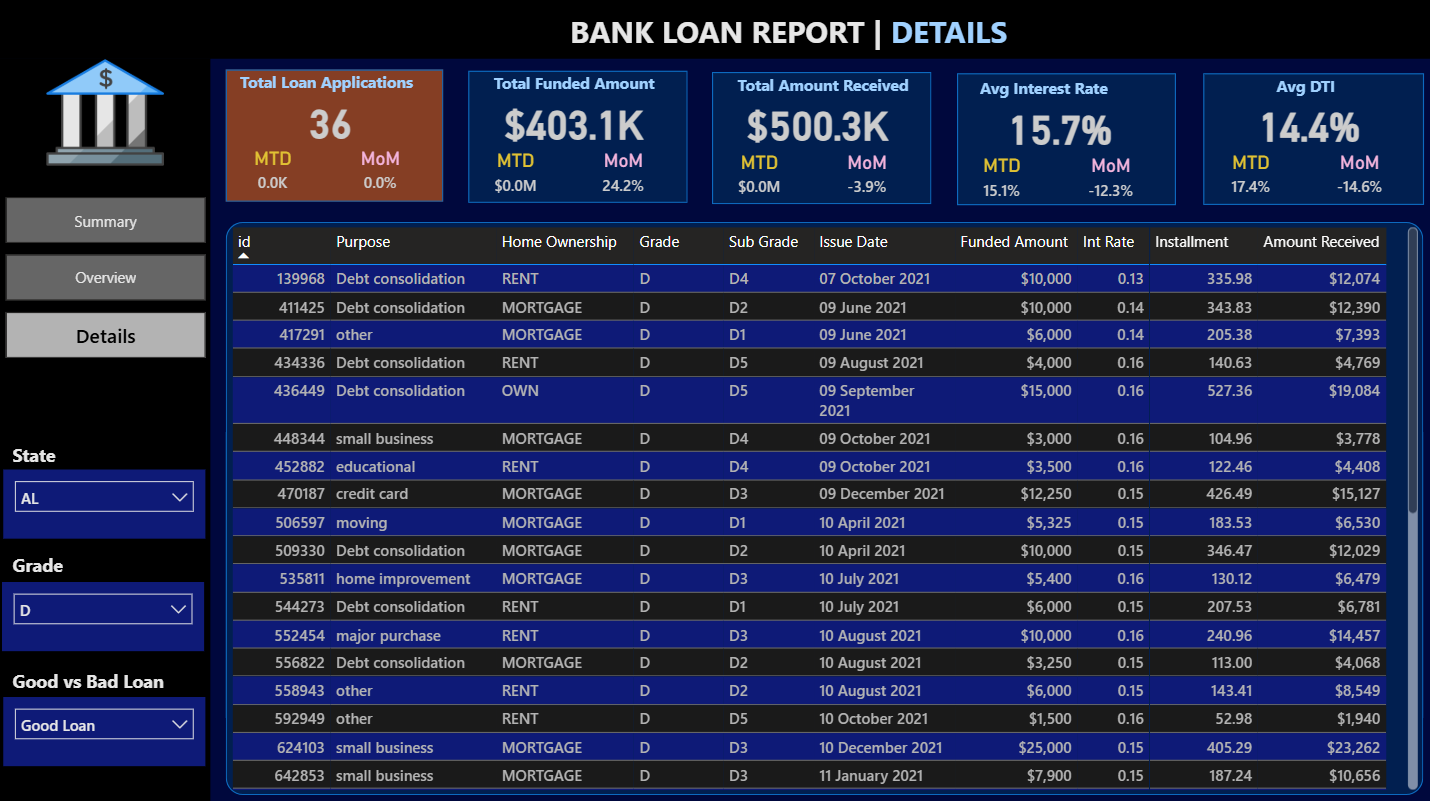

The dashboard page shown, as its layout file describes it:
{"tool":"powerbi","page":{"name":"Details","canvas":[1280,720],"ordinal":2},"visuals":[{"type":"shape","box":[0,0,1280,55],"z":0},{"type":"shape","box":[203.8,64.6,193.8,117.8],"z":0,"group":"g1"},{"type":"shape","box":[419.5,66.3,195.4,117.7],"z":0,"group":"g2"},{"type":"shape","box":[636.6,67.7,195.4,117.7],"z":0,"group":"g3"},{"type":"shape","box":[854.5,68.5,195,117.5],"z":0,"group":"g4"},{"type":"shape","box":[1073.8,68.8,196.6,117.3],"z":0,"group":"g5"},{"type":"card","fields":{"Values":["bank_loan_data.Total Loan Applications"]},"box":[227.1,80,140.2,60.1],"z":1000,"group":"g1"},{"type":"card","fields":{"Values":["bank_loan_data.Total Funded Amount"]},"box":[443,81.7,141.4,60],"z":1000,"group":"g2"},{"type":"card","fields":{"Values":["bank_loan_data.Total Amount Received"]},"box":[660.1,83.1,141.4,60],"z":1000,"group":"g3"},{"type":"card","fields":{"Values":["bank_loan_data.Avg DTI"]},"box":[1097.4,84.1,142.3,59.8],"z":1000,"group":"g5"},{"type":"card","fields":{"Values":["bank_loan_data.Average Interest Rate"]},"box":[876.2,86,141.4,60],"z":1000,"group":"g4"},{"type":"shape","box":[203.9,200.3,1066.5,510.3],"z":1000},{"type":"shape","box":[0,55,190,665],"z":2000},{"type":"textbox","box":[211.5,61.2,172.3,35],"z":2000,"group":"g1"},{"type":"textbox","box":[437.4,62.5,173.8,35.4],"z":2000,"group":"g2"},{"type":"textbox","box":[654.5,63.9,173.8,35.4],"z":2000,"group":"g3"},{"type":"textbox","box":[1091.8,65,175,35.3],"z":2000,"group":"g5"},{"type":"textbox","box":[870.6,66.8,173.8,35.4],"z":2000,"group":"g4"},{"type":"textbox","box":[505,7.5,442.5,47.5],"z":3000},{"type":"card","title":"MTD","fields":{"Values":["bank_loan_data.MTD Loan Applications"]},"box":[211.5,133.8,68.2,45],"z":3000,"group":"g1"},{"type":"card","title":"MTD","fields":{"Values":["bank_loan_data.MTD Funded Amount"]},"box":[427.3,135.4,68.8,45],"z":3000,"group":"g2"},{"type":"card","title":"MTD","fields":{"Values":["bank_loan_data.MTD Total Amount Recieved"]},"box":[644.4,136.8,68.8,45],"z":3000,"group":"g3"},{"type":"card","title":"MTD","fields":{"Values":["bank_loan_data.MTD Avg DTI"]},"box":[1081.6,137.7,69.2,44.8],"z":3000,"group":"g5"},{"type":"card","title":"MTD","fields":{"Values":["bank_loan_data.MTD Avg Int Rate"]},"box":[860.5,139.7,68.8,45],"z":3000,"group":"g4"},{"type":"group","id":"g1","title":"Group 1","box":[203.8,61.2,193.8,121.2],"z":4000},{"type":"card","title":"MoM","fields":{"Values":["bank_loan_data.MOM Loan Application"]},"box":[309.1,133.9,64.1,44.7],"z":4000,"group":"g1"},{"type":"card","title":"MoM","fields":{"Values":["bank_loan_data.MOM Funded Amount"]},"box":[525.7,135.5,64.6,44.6],"z":4000,"group":"g2"},{"type":"card","title":"MoM","fields":{"Values":["bank_loan_data.MOM Total Amount Recieved"]},"box":[742.8,136.9,64.6,44.6],"z":4000,"group":"g3"},{"type":"card","title":"MoM","fields":{"Values":["bank_loan_data.MoM Avg DTI"]},"box":[1180.7,137.8,65,44.5],"z":4000,"group":"g5"},{"type":"card","title":"MoM","fields":{"Values":["bank_loan_data.MoM Avg Int Rate"]},"box":[958.9,139.8,64.6,44.6],"z":4000,"group":"g4"},{"type":"group","id":"g2","title":"Group 1","box":[419.5,62.5,195,121.7],"z":5000},{"type":"group","id":"g3","title":"Group 1","box":[636.6,63.9,195.8,121.7],"z":6000},{"type":"group","id":"g4","title":"Group 1","box":[854.5,66.8,195,119.2],"z":7000},{"type":"group","id":"g5","title":"Group 1","box":[1073.8,65,196.2,121.2],"z":8000},{"type":"textbox","box":[35,447.5,231.2,35],"z":9000},{"type":"slicer","fields":{"Values":["bank_loan_data.address_state"]},"box":[6,421,179.8,61.5],"z":10000},{"type":"textbox","box":[8.4,392.1,160.5,43.4],"z":11000},{"type":"slicer","fields":{"Values":["bank_loan_data.grade"]},"box":[4.8,521.2,179.8,61.5],"z":12000},{"type":"slicer","fields":{"Values":["bank_loan_data.Good vs Bad Loan"]},"box":[6,623.7,179.8,61.5],"z":13000},{"type":"textbox","box":[8.8,593.8,160,43.8],"z":14000},{"type":"textbox","box":[8.4,489.8,160.5,44.6],"z":15000},{"type":"tableEx","fields":{"Values":["bank_loan_data.id","bank_loan_data.purpose","bank_loan_data.home_ownership","bank_loan_data.grade","bank_loan_data.sub_grade","bank_loan_data.issue_date","bank_loan_data.Total Funded Amount","Sum(bank_loan_data.int_rate)","Sum(bank_loan_data.installment)","bank_loan_data.Total Amount Received"]},"box":[203.9,200.3,1066.5,510.3],"z":16000},{"type":"image","box":[36.2,45.8,119.4,114.6],"z":17000},{"type":"pageNavigator","box":[7.2,178.6,178.6,146],"z":18000}]}

Visuals, with their boxes in screenshot pixels (x1, y1, x2, y2), scaled from the page's 1280x720 canvas onto the 1430x801 screenshot:
shape: pyautogui.locateOnScreen(0, 0, 1429, 61)
shape: pyautogui.locateOnScreen(228, 72, 444, 203)
shape: pyautogui.locateOnScreen(469, 74, 687, 205)
shape: pyautogui.locateOnScreen(711, 75, 930, 206)
shape: pyautogui.locateOnScreen(955, 76, 1172, 207)
shape: pyautogui.locateOnScreen(1200, 77, 1419, 207)
card - bank_loan_data.Total Loan Applications: pyautogui.locateOnScreen(254, 89, 410, 156)
card - bank_loan_data.Total Funded Amount: pyautogui.locateOnScreen(495, 91, 653, 158)
card - bank_loan_data.Total Amount Received: pyautogui.locateOnScreen(737, 92, 895, 159)
card - bank_loan_data.Avg DTI: pyautogui.locateOnScreen(1226, 94, 1385, 160)
card - bank_loan_data.Average Interest Rate: pyautogui.locateOnScreen(979, 96, 1137, 162)
shape: pyautogui.locateOnScreen(228, 223, 1419, 791)
shape: pyautogui.locateOnScreen(0, 61, 212, 800)
textbox: pyautogui.locateOnScreen(236, 68, 429, 107)
textbox: pyautogui.locateOnScreen(489, 70, 683, 109)
textbox: pyautogui.locateOnScreen(731, 71, 925, 110)
textbox: pyautogui.locateOnScreen(1220, 72, 1415, 112)
textbox: pyautogui.locateOnScreen(973, 74, 1167, 114)
textbox: pyautogui.locateOnScreen(564, 8, 1059, 61)
"MTD" card: pyautogui.locateOnScreen(236, 149, 312, 199)
"MTD" card: pyautogui.locateOnScreen(477, 151, 554, 201)
"MTD" card: pyautogui.locateOnScreen(720, 152, 797, 202)
"MTD" card: pyautogui.locateOnScreen(1208, 153, 1286, 203)
"MTD" card: pyautogui.locateOnScreen(961, 155, 1038, 205)
"Group 1" group: pyautogui.locateOnScreen(228, 68, 444, 203)
"MoM" card: pyautogui.locateOnScreen(345, 149, 417, 199)
"MoM" card: pyautogui.locateOnScreen(587, 151, 659, 200)
"MoM" card: pyautogui.locateOnScreen(830, 152, 902, 202)
"MoM" card: pyautogui.locateOnScreen(1319, 153, 1392, 203)
"MoM" card: pyautogui.locateOnScreen(1071, 156, 1143, 205)
"Group 1" group: pyautogui.locateOnScreen(469, 70, 687, 205)
"Group 1" group: pyautogui.locateOnScreen(711, 71, 930, 206)
"Group 1" group: pyautogui.locateOnScreen(955, 74, 1172, 207)
"Group 1" group: pyautogui.locateOnScreen(1200, 72, 1419, 207)
textbox: pyautogui.locateOnScreen(39, 498, 297, 537)
slicer - bank_loan_data.address_state: pyautogui.locateOnScreen(7, 468, 208, 537)
textbox: pyautogui.locateOnScreen(9, 436, 189, 484)
slicer - bank_loan_data.grade: pyautogui.locateOnScreen(5, 580, 206, 648)
slicer - bank_loan_data.Good vs Bad Loan: pyautogui.locateOnScreen(7, 694, 208, 762)
textbox: pyautogui.locateOnScreen(10, 661, 189, 709)
textbox: pyautogui.locateOnScreen(9, 545, 189, 595)
tableEx - bank_loan_data.id x bank_loan_data.purpose: pyautogui.locateOnScreen(228, 223, 1419, 791)
image: pyautogui.locateOnScreen(40, 51, 174, 178)
pageNavigator: pyautogui.locateOnScreen(8, 199, 208, 361)
